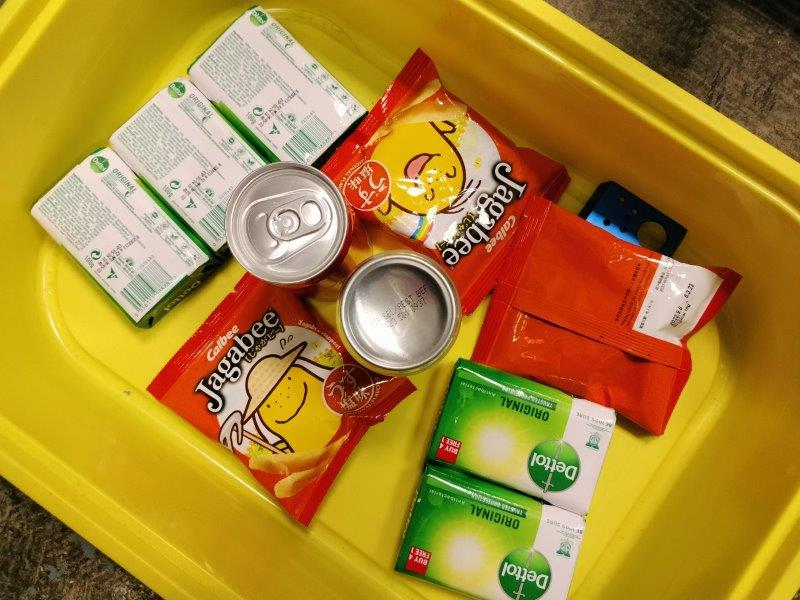Coke: (337, 252, 460, 378), (222, 163, 347, 285)
Dettol: (29, 145, 210, 325), (190, 5, 368, 182), (110, 79, 282, 260), (429, 361, 617, 516), (398, 470, 587, 600)
Jagabee: (150, 268, 417, 532), (470, 197, 743, 442), (322, 48, 571, 316)
